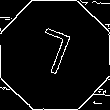L_S: (32, 26, 78, 84)
